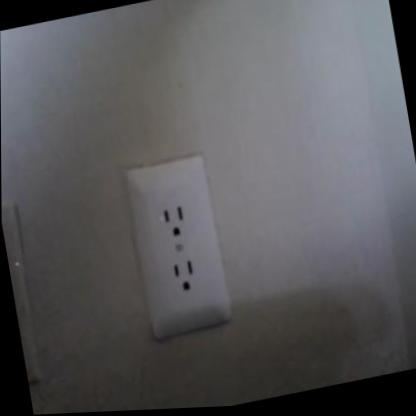OUTLET: (122, 150, 234, 342)
